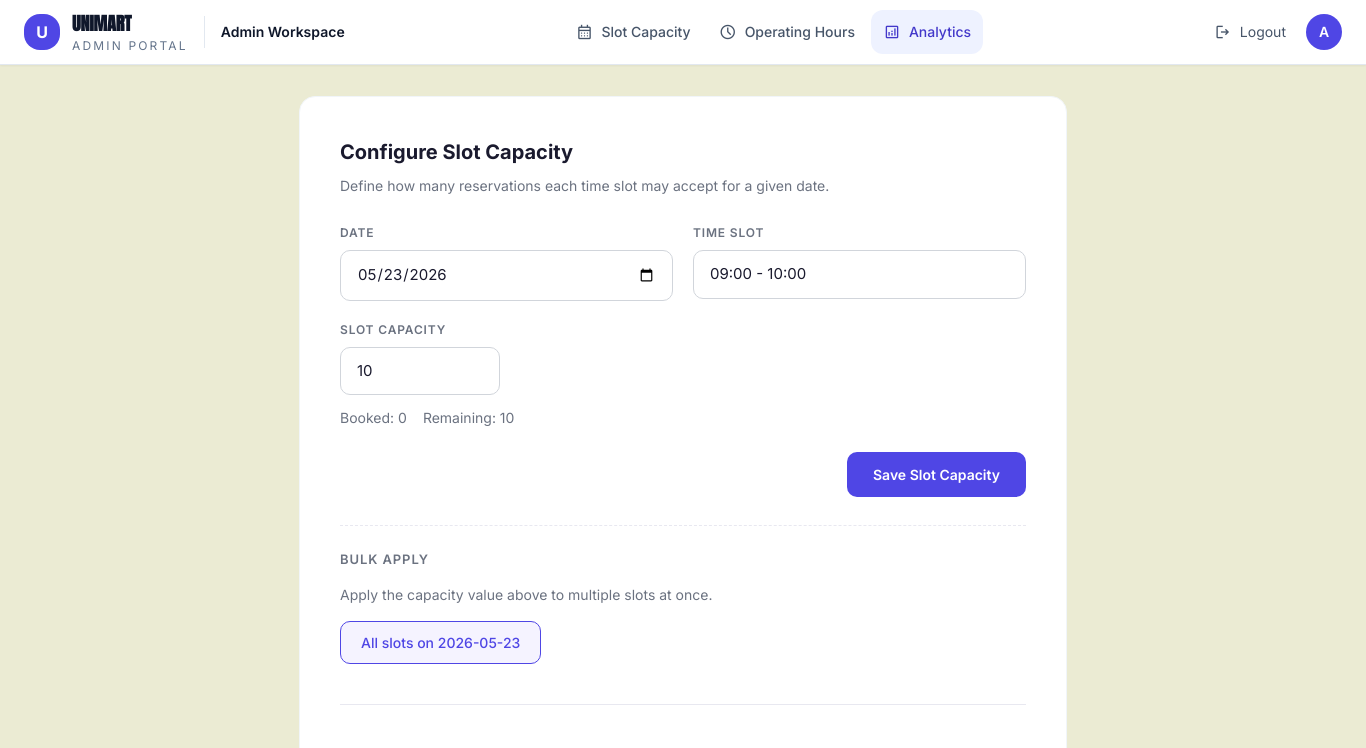
Test: AdminDashboard coverage – slot capacity › shows error when slot capacity save fails
This screenshot has width=1366, height=748.
Click the button "Save Slot Capacity" at (936, 474), box [847,452,1026,497]
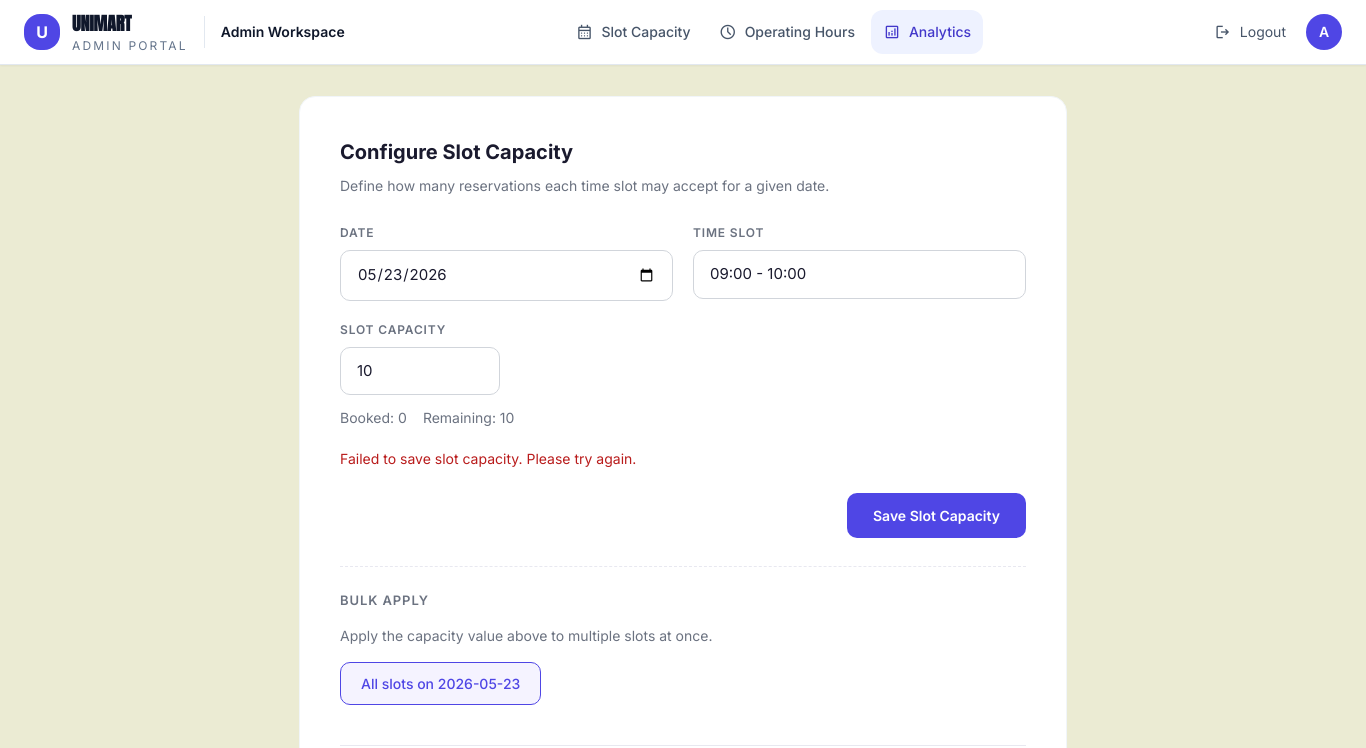
Result: the text "Failed to save slot capacity. Please try again." is shown at [340,450,636,467]
